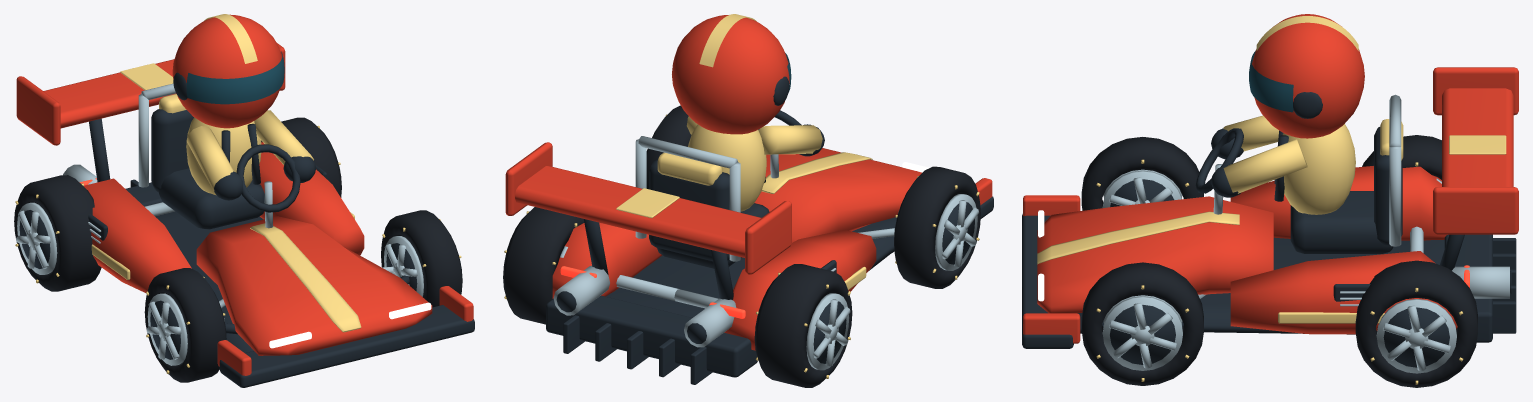
Rendered from wutborg-sprint.glb.
The picture shows the model from 3 angles, left to right: view 1: azimuth 30°, elevation 25°; view 2: azimuth 150°, elevation 25°; view 3: azimuth 270°, elevation 25°; orthographic projection. The views are drawn at different scales.
Visible parts, largest first — view 1: Chassis_Paint, Chassis_Carbon, Chassis_Accent, Wheel_RL_Rubber, Wheel_FL_Rubber, Wheel_FR_Rubber, Chassis_Visor, Chassis_Alloy, Wheel_FL_Alloy, Wheel_RL_Alloy, Wheel_RR_Rubber, Wheel_FR_Alloy (+4 smaller); view 2: Chassis_Paint, Chassis_Carbon, Chassis_Accent, Wheel_RL_Rubber, Chassis_Alloy, Wheel_FL_Rubber, Wheel_RR_Rubber, Wheel_FL_Alloy, Wheel_RL_Alloy, Wheel_FR_Rubber, Wheel_FL_Carbon, Wheel_RL_Carbon (+1 smaller); view 3: Chassis_Paint, Chassis_Carbon, Chassis_Accent, Wheel_RR_Rubber, Wheel_FR_Rubber, Wheel_FL_Rubber, Chassis_Alloy, Wheel_FR_Alloy, Wheel_RR_Alloy, Wheel_RR_Carbon, Wheel_FR_Carbon, Wheel_FL_Alloy (+3 smaller).
Part boxes in pixels (bbox=[...]): Chassis_Paint: bbox=[16, 14, 473, 375]; Chassis_Carbon: bbox=[88, 72, 474, 387]; Chassis_Accent: bbox=[91, 14, 361, 332]; Wheel_RL_Rubber: bbox=[14, 175, 101, 291]; Wheel_FL_Rubber: bbox=[144, 268, 226, 382]; Wheel_FR_Rubber: bbox=[381, 210, 462, 307]; Chassis_Visor: bbox=[186, 51, 284, 104]; Chassis_Alloy: bbox=[63, 83, 393, 308]; Wheel_FL_Alloy: bbox=[146, 293, 224, 365]; Wheel_RL_Alloy: bbox=[16, 202, 57, 274]; Wheel_RR_Rubber: bbox=[261, 117, 341, 197]; Wheel_FR_Alloy: bbox=[384, 236, 460, 296]; Chassis_Paint: bbox=[505, 15, 992, 350]; Chassis_Carbon: bbox=[546, 76, 993, 384]; Chassis_Accent: bbox=[616, 14, 872, 290]; Wheel_RL_Rubber: bbox=[754, 264, 852, 387]; Chassis_Alloy: bbox=[553, 136, 894, 347]; Wheel_FL_Rubber: bbox=[894, 166, 980, 288]; Wheel_RR_Rubber: bbox=[503, 207, 584, 324]; Wheel_FL_Alloy: bbox=[898, 194, 978, 270]; Wheel_RL_Alloy: bbox=[806, 293, 850, 370]; Wheel_FR_Rubber: bbox=[646, 105, 691, 189]; Wheel_FL_Carbon: bbox=[942, 202, 974, 264]; Wheel_RL_Carbon: bbox=[813, 301, 846, 363]; Chassis_Paint: bbox=[1023, 14, 1518, 343]; Chassis_Carbon: bbox=[1022, 92, 1516, 348]; Chassis_Accent: bbox=[1037, 16, 1506, 323]; Wheel_RR_Rubber: bbox=[1355, 260, 1477, 387]; Wheel_FR_Rubber: bbox=[1081, 262, 1203, 385]; Wheel_FL_Rubber: bbox=[1081, 137, 1203, 210]; Chassis_Alloy: bbox=[1198, 94, 1509, 306]; Wheel_FR_Alloy: bbox=[1102, 295, 1182, 370]; Wheel_RR_Alloy: bbox=[1376, 299, 1456, 373]; Wheel_RR_Carbon: bbox=[1383, 307, 1449, 367]; Wheel_FR_Carbon: bbox=[1110, 305, 1175, 364]; Wheel_FL_Alloy: bbox=[1102, 169, 1182, 207].
Size of the model in its own units: 2.07 by 1.83 by 2.77.
